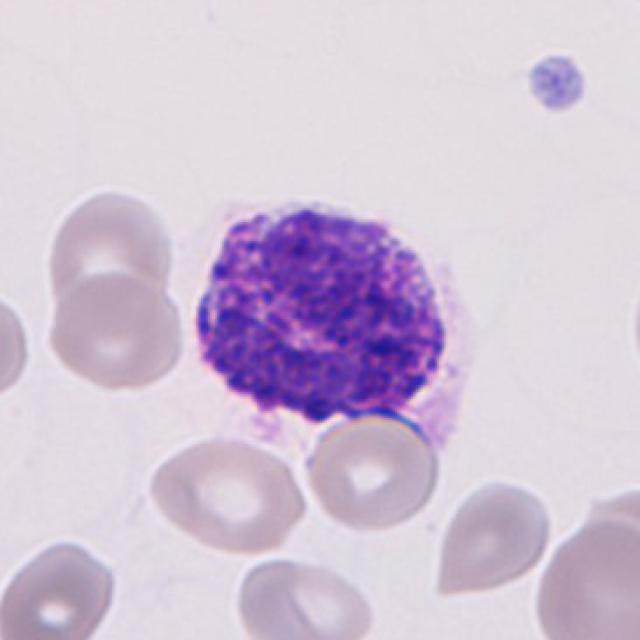Basophil: (180, 182, 490, 474)
Platelets: (521, 49, 593, 120)
RBC: (142, 430, 313, 557), (40, 182, 178, 323), (40, 269, 187, 394), (301, 411, 444, 534), (430, 474, 556, 600), (528, 513, 638, 640), (229, 553, 381, 640), (0, 532, 122, 639), (577, 482, 640, 624), (0, 282, 35, 408), (628, 258, 640, 396)
